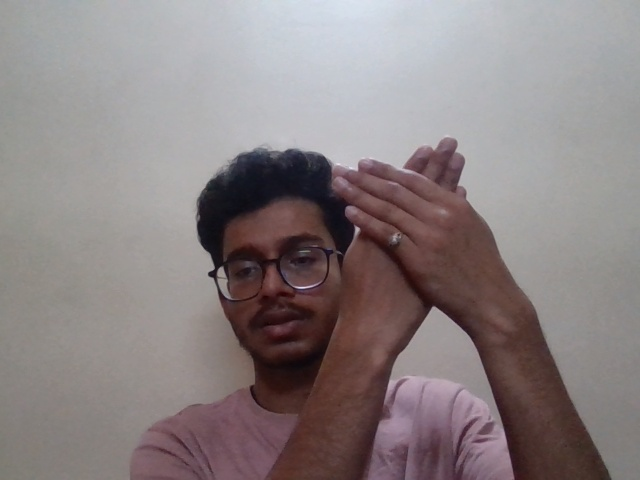what: (316, 134, 528, 340)
